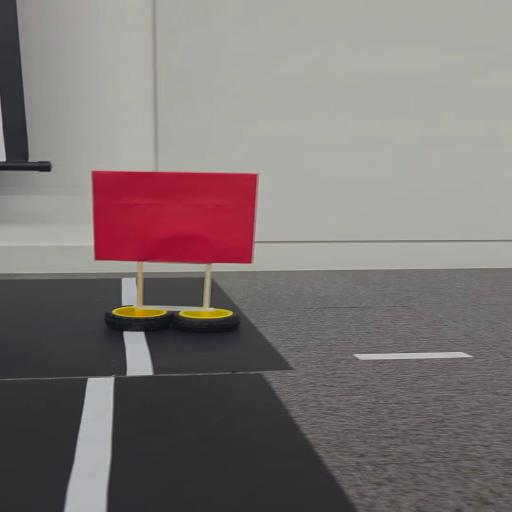Sign_A: (79, 166, 269, 339)
